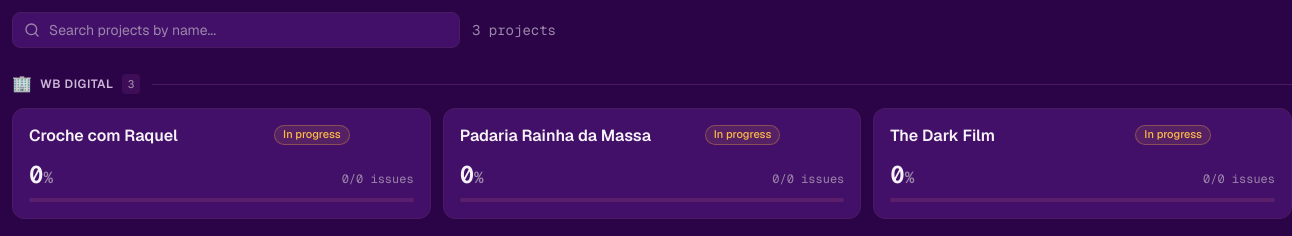
Test: ProjectsListClient — busca › filtra os cards conforme digita, case-insensitive
The width and height of the screenshot is (1292, 236).
In the search field labelled "Search projects by name": (236, 30) x1=12 y1=12 x2=460 y2=48, type "RAQUEL"
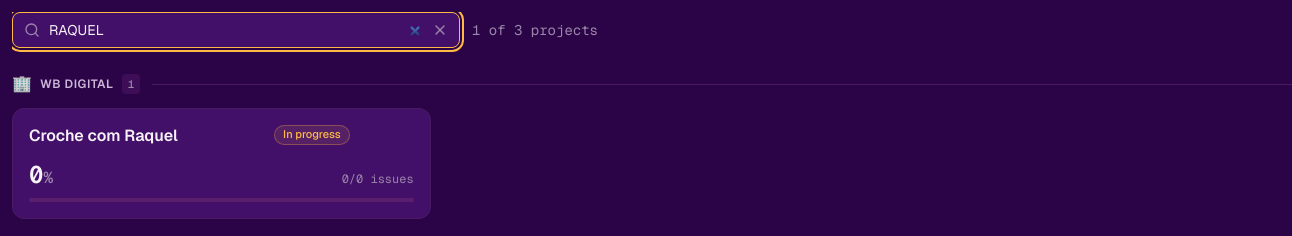
Expected: the heading "Croche com Raquel" is shown, x1=29 y1=125 x2=178 y2=146
Expected: the link "Padaria Rainha da Massa" is gone
Expected: the link "The Dark Film" is gone
